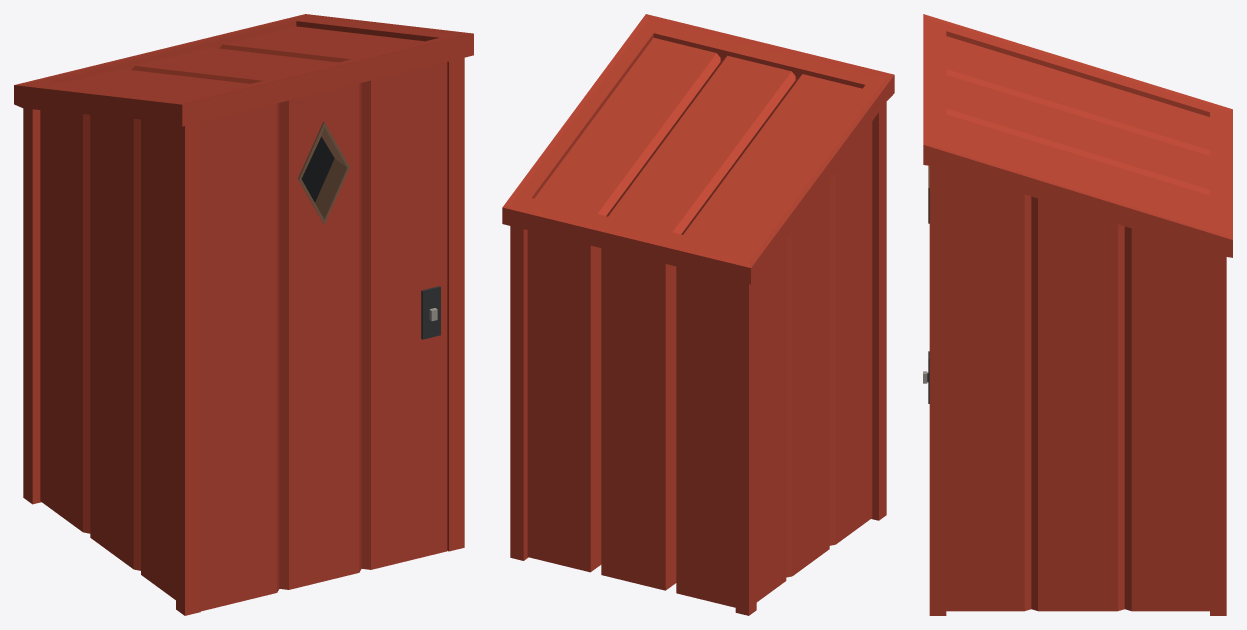
The model's file is Toilet_01_B.gltf.
3 renders of one model, left to right at view 1: azimuth 30°, elevation 25°; view 2: azimuth 150°, elevation 25°; view 3: azimuth 270°, elevation 25°, orthographic. The views are drawn at different scales.
Parts seen in each view (by area): view 1: ToiletDoor_01_B, Toilet_01_B; view 2: Toilet_01_B; view 3: Toilet_01_B.
Part boxes in pixels (bbox=[...]): ToiletDoor_01_B: bbox=[200, 62, 447, 611]; Toilet_01_B: bbox=[14, 14, 473, 615]; Toilet_01_B: bbox=[502, 14, 894, 615]; Toilet_01_B: bbox=[923, 14, 1232, 615].
Bounding box in the file's own units: 0.6626 × 1.12 × 0.6631.
